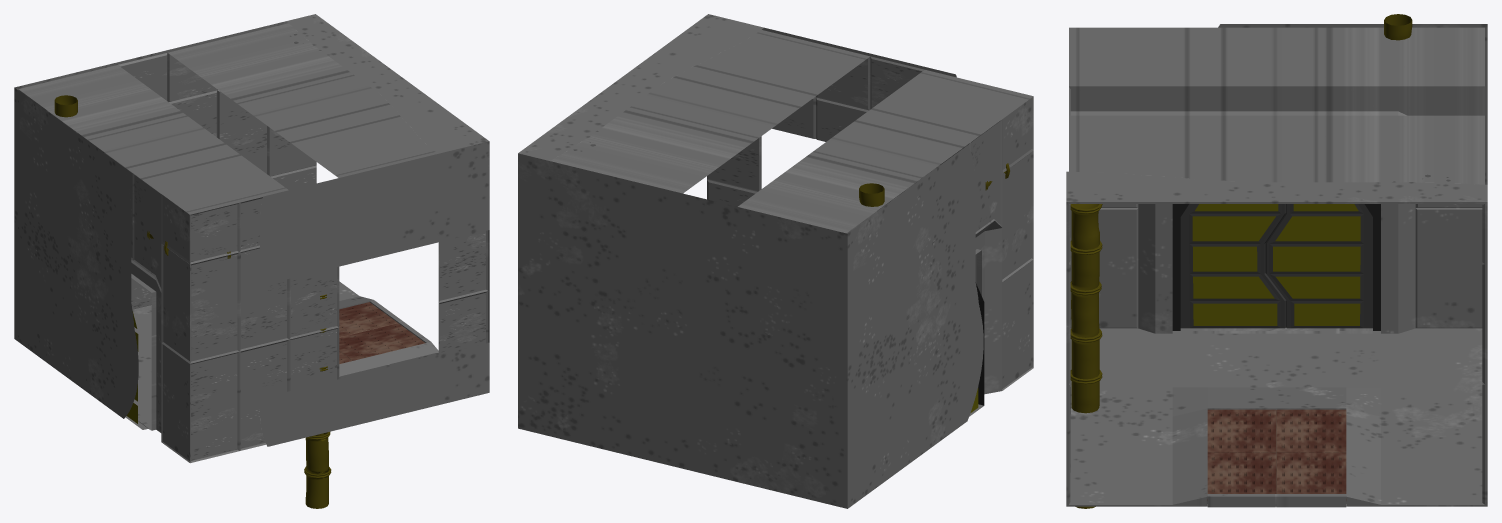
Rendered from BackgroundMainMenu.fbx.
The picture shows the model from 3 angles, left to right: view 1: azimuth 30°, elevation 25°; view 2: azimuth 150°, elevation 25°; view 3: azimuth 270°, elevation 25°; orthographic projection. The views are drawn at different scales.
Visible parts, largest first — view 1: MainScreen-BG; view 2: MainScreen-BG; view 3: MainScreen-BG.
Boxes of the visible parts, <box> form: MainScreen-BG: <box>14,14,489,508</box>; MainScreen-BG: <box>518,14,1033,508</box>; MainScreen-BG: <box>1066,14,1487,508</box>.
Size of the model in its own units: 597 by 643 by 597.
Materials: 4 (4 with a texture image).
